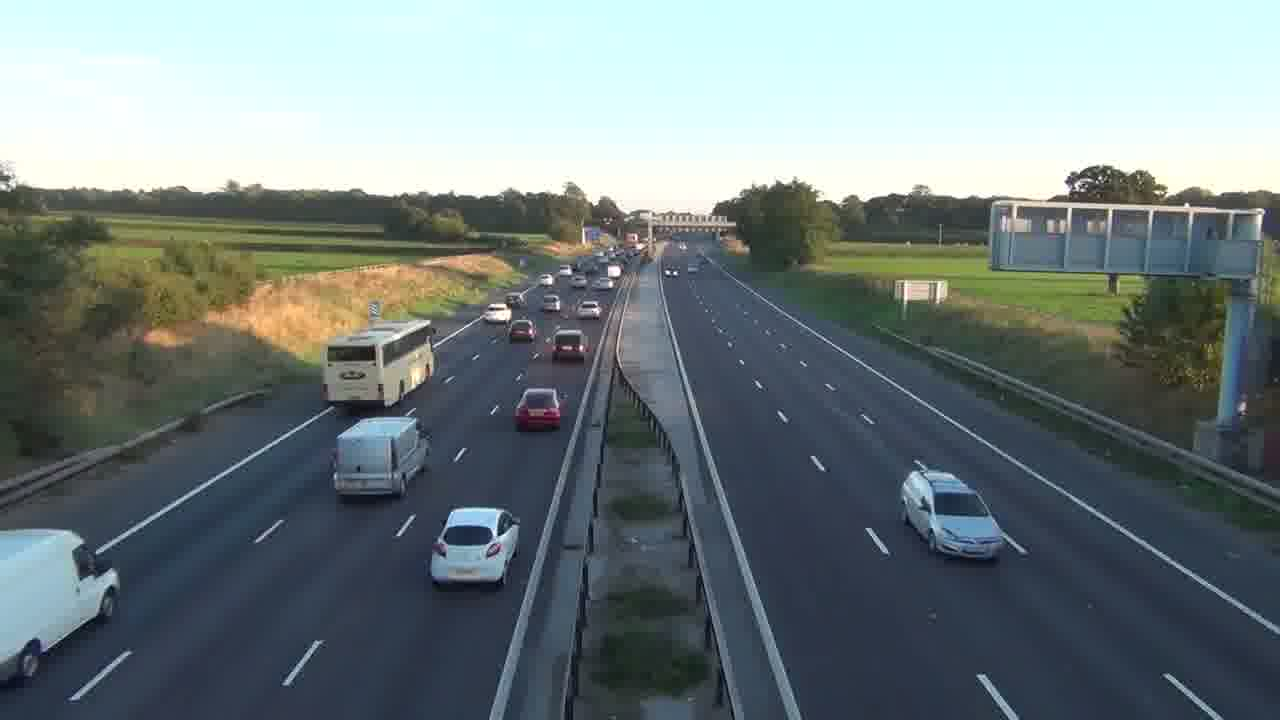bus: (321, 318, 436, 412)
car: (899, 460, 1006, 561), (428, 506, 521, 590), (513, 387, 565, 431), (551, 327, 589, 363), (509, 318, 536, 343), (575, 299, 602, 319)
truck: (0, 528, 121, 686), (331, 415, 430, 499)
